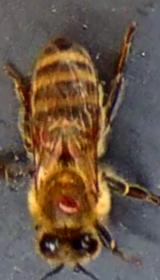varroa_mite: (51, 190, 90, 221), (63, 131, 93, 162), (24, 124, 51, 154)
